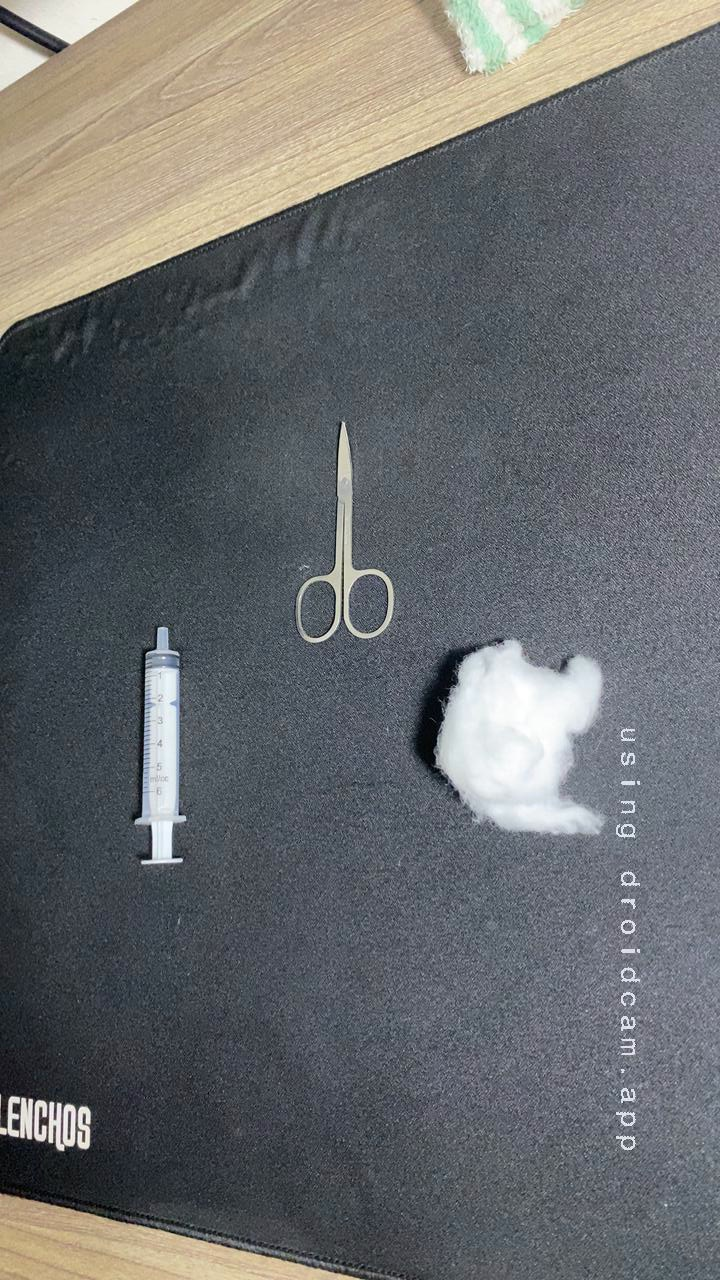cotton: (401, 625, 651, 850)
scissor: (269, 405, 410, 655)
syringe: (108, 616, 210, 879)
